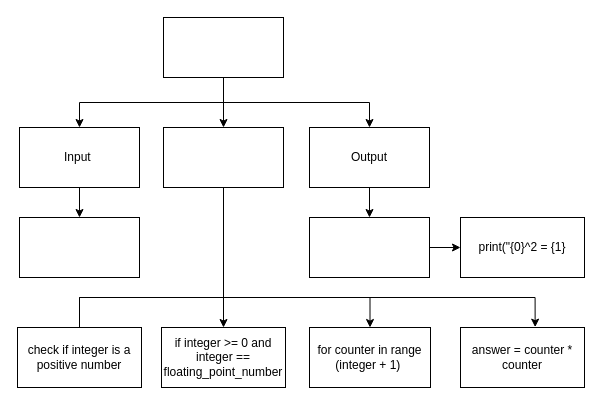
Some shapes in this 602 by 405 pixel diagram are drawn without their labels. Each missing label, with the centre of its shape:
"Exponents" belongs at point (223, 47).
"Get integer from user" belongs at point (79, 247).
"Process" belongs at point (223, 157).
"show factorial integers" belongs at point (369, 247).
